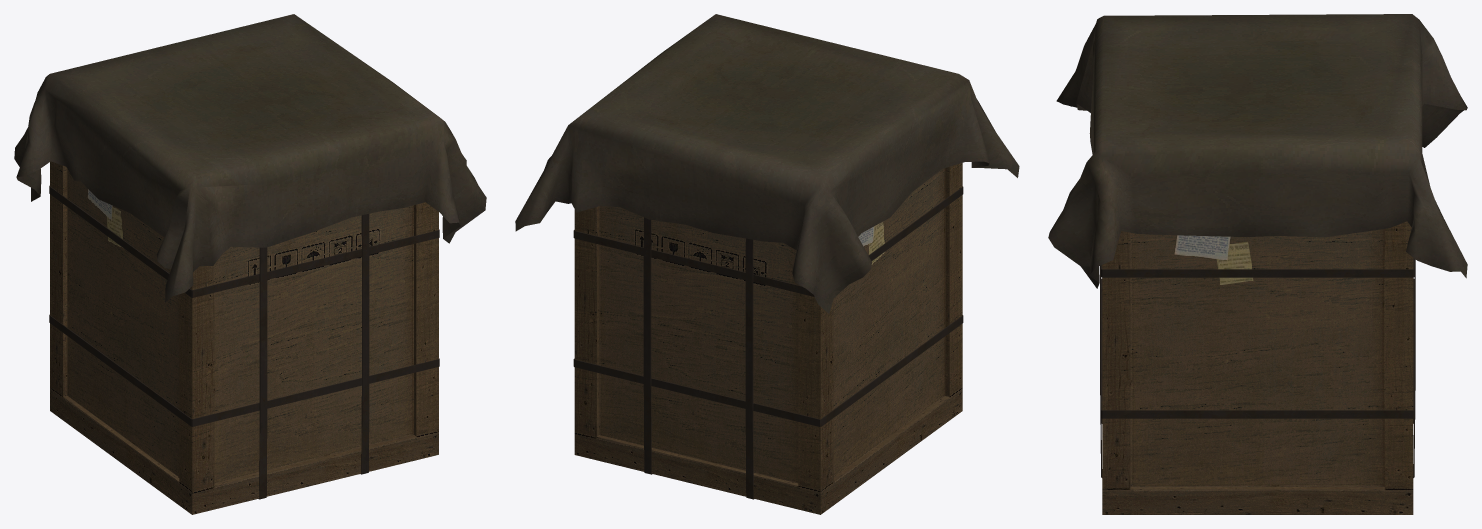
File: wooden_crate_hx_1_2.glb
3 renders of one model, left to right at view 1: azimuth 30°, elevation 25°; view 2: azimuth 150°, elevation 25°; view 3: azimuth 270°, elevation 25°, orthographic. The views are drawn at different scales.
Visible parts, largest first — view 1: wooden_crate_hx_1_2; view 2: wooden_crate_hx_1_2; view 3: wooden_crate_hx_1_2.
Boxes of the visible parts, bbox=[...] form: wooden_crate_hx_1_2: bbox=[14, 14, 486, 514]; wooden_crate_hx_1_2: bbox=[515, 14, 1019, 514]; wooden_crate_hx_1_2: bbox=[1048, 14, 1467, 514].
Size of the model in its own units: 1.89 by 1.84 by 1.89.
3 materials, 3 textured.
